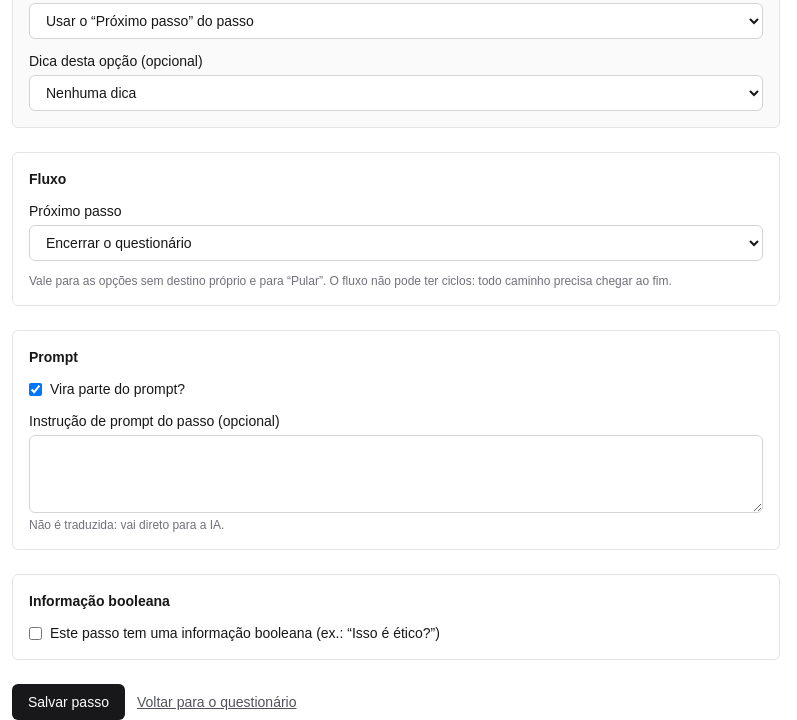
StepForm › shows the saved step and submits options in order, with their jumps
(page scrolled)
Expected: the checkbox labelled "Vira parte do prompt?" is checked, left=29, top=382, right=42, bottom=396
Expected: the dropdown labelled "Próximo passo" shows "Encerrar o questionário", left=29, top=225, right=763, bottom=261
Click the button "Salvar passo" at {"x": 68, "y": 702}, box left=12, top=684, right=125, bottom=719
(page scrolled)
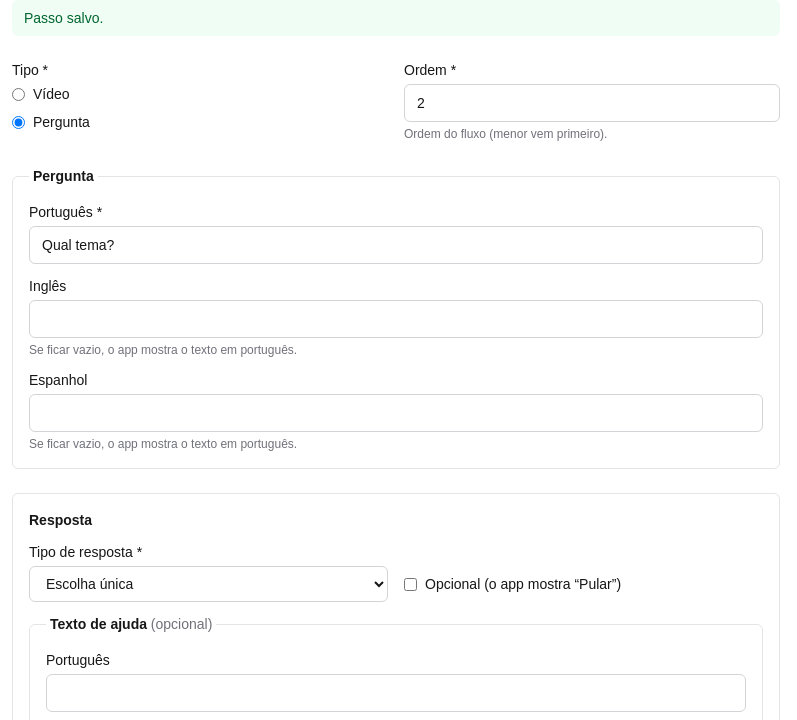
Expected: the message reads "Passo salvo.", left=24, top=10, right=103, bottom=26
